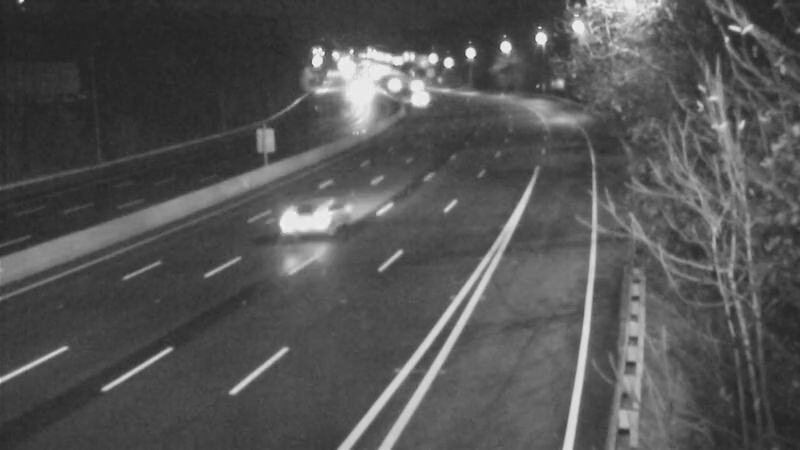vehicle: (257, 187, 337, 267), (391, 59, 441, 109), (368, 59, 418, 109), (392, 72, 442, 122), (331, 70, 381, 120)
